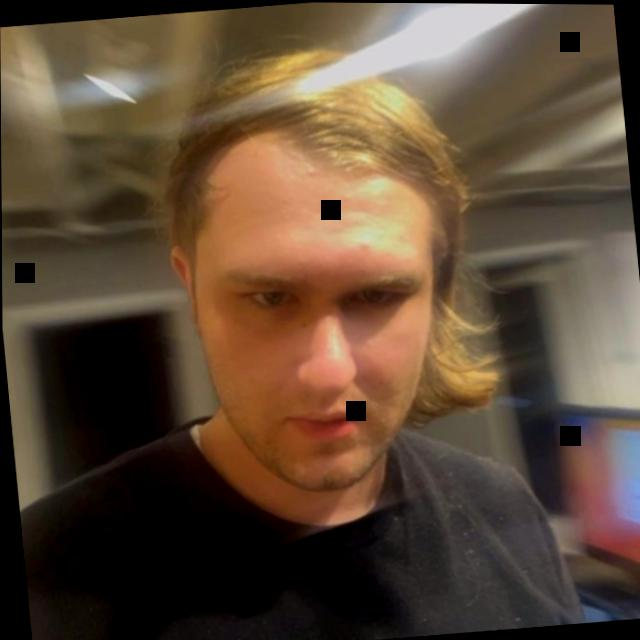NO-Mask: (82, 4, 572, 616)
